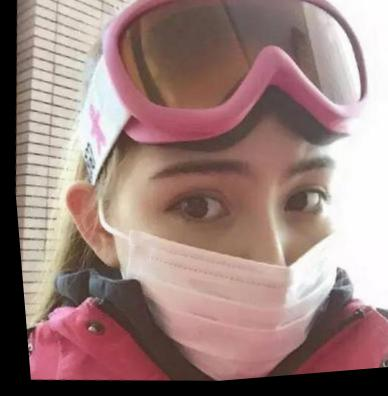WRONG: (108, 140, 355, 387)
